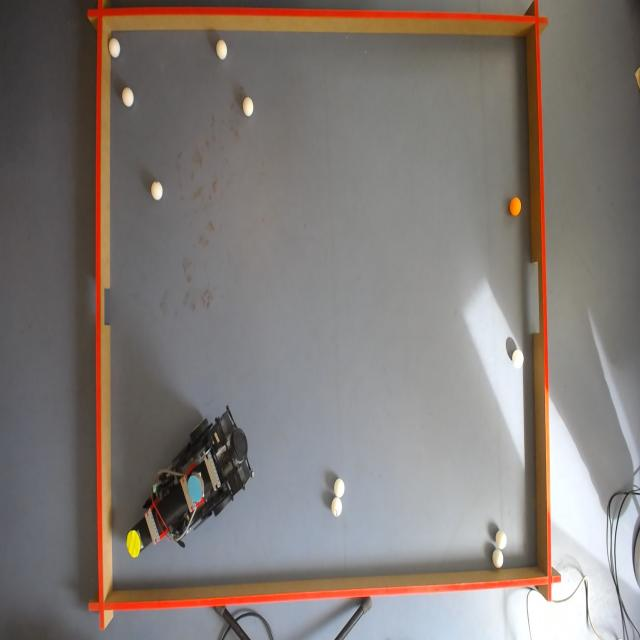orange: (510, 196, 522, 217)
robot: (129, 415, 244, 549)
robot-front: (126, 530, 141, 558)
robot-rear: (188, 475, 202, 502)
white: (151, 182, 165, 204), (242, 96, 256, 116), (109, 40, 123, 60), (334, 478, 347, 498), (217, 41, 230, 61), (493, 548, 505, 569), (122, 89, 136, 106), (332, 498, 344, 517), (500, 532, 510, 548)
